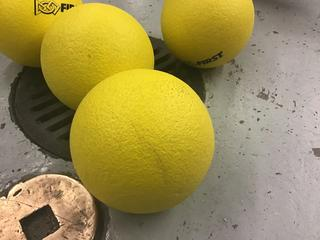power_cell: (69, 67, 243, 219), (44, 3, 162, 103), (163, 1, 255, 71)
